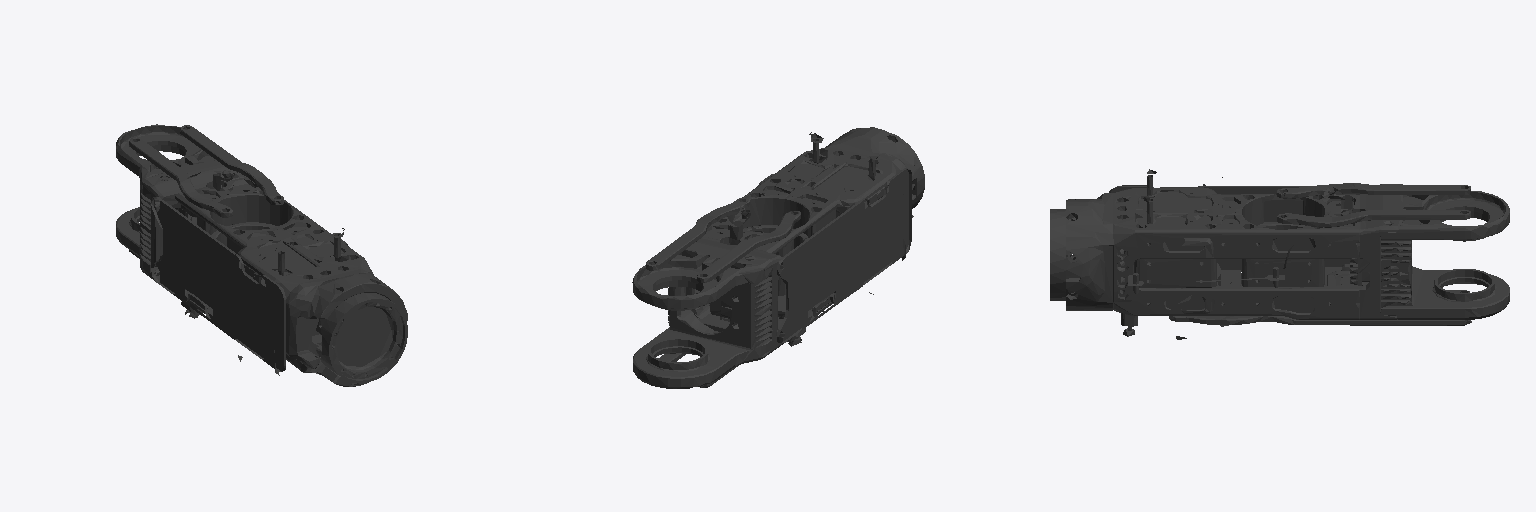
Rendered from wristYawRight_0.obj.
3 renders of one model, left to right at view 1: azimuth 30°, elevation 25°; view 2: azimuth 150°, elevation 25°; view 3: azimuth 270°, elevation 25°, orthographic.
Size of the model in its own units: 0.0697 by 0.0758 by 0.2264.